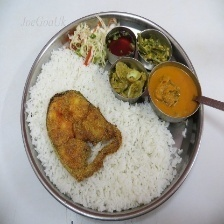sabzi: (109, 60, 148, 102)
